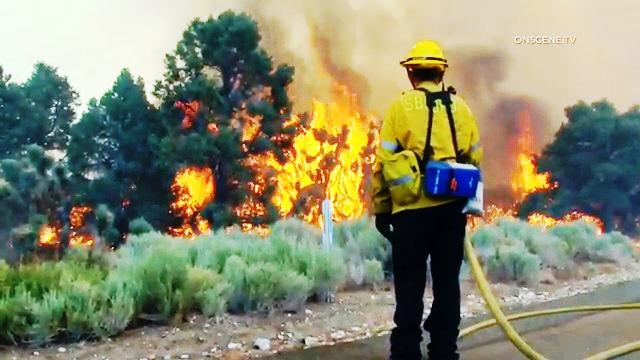fire: (278, 98, 366, 221), (509, 118, 549, 191), (175, 168, 217, 218)
